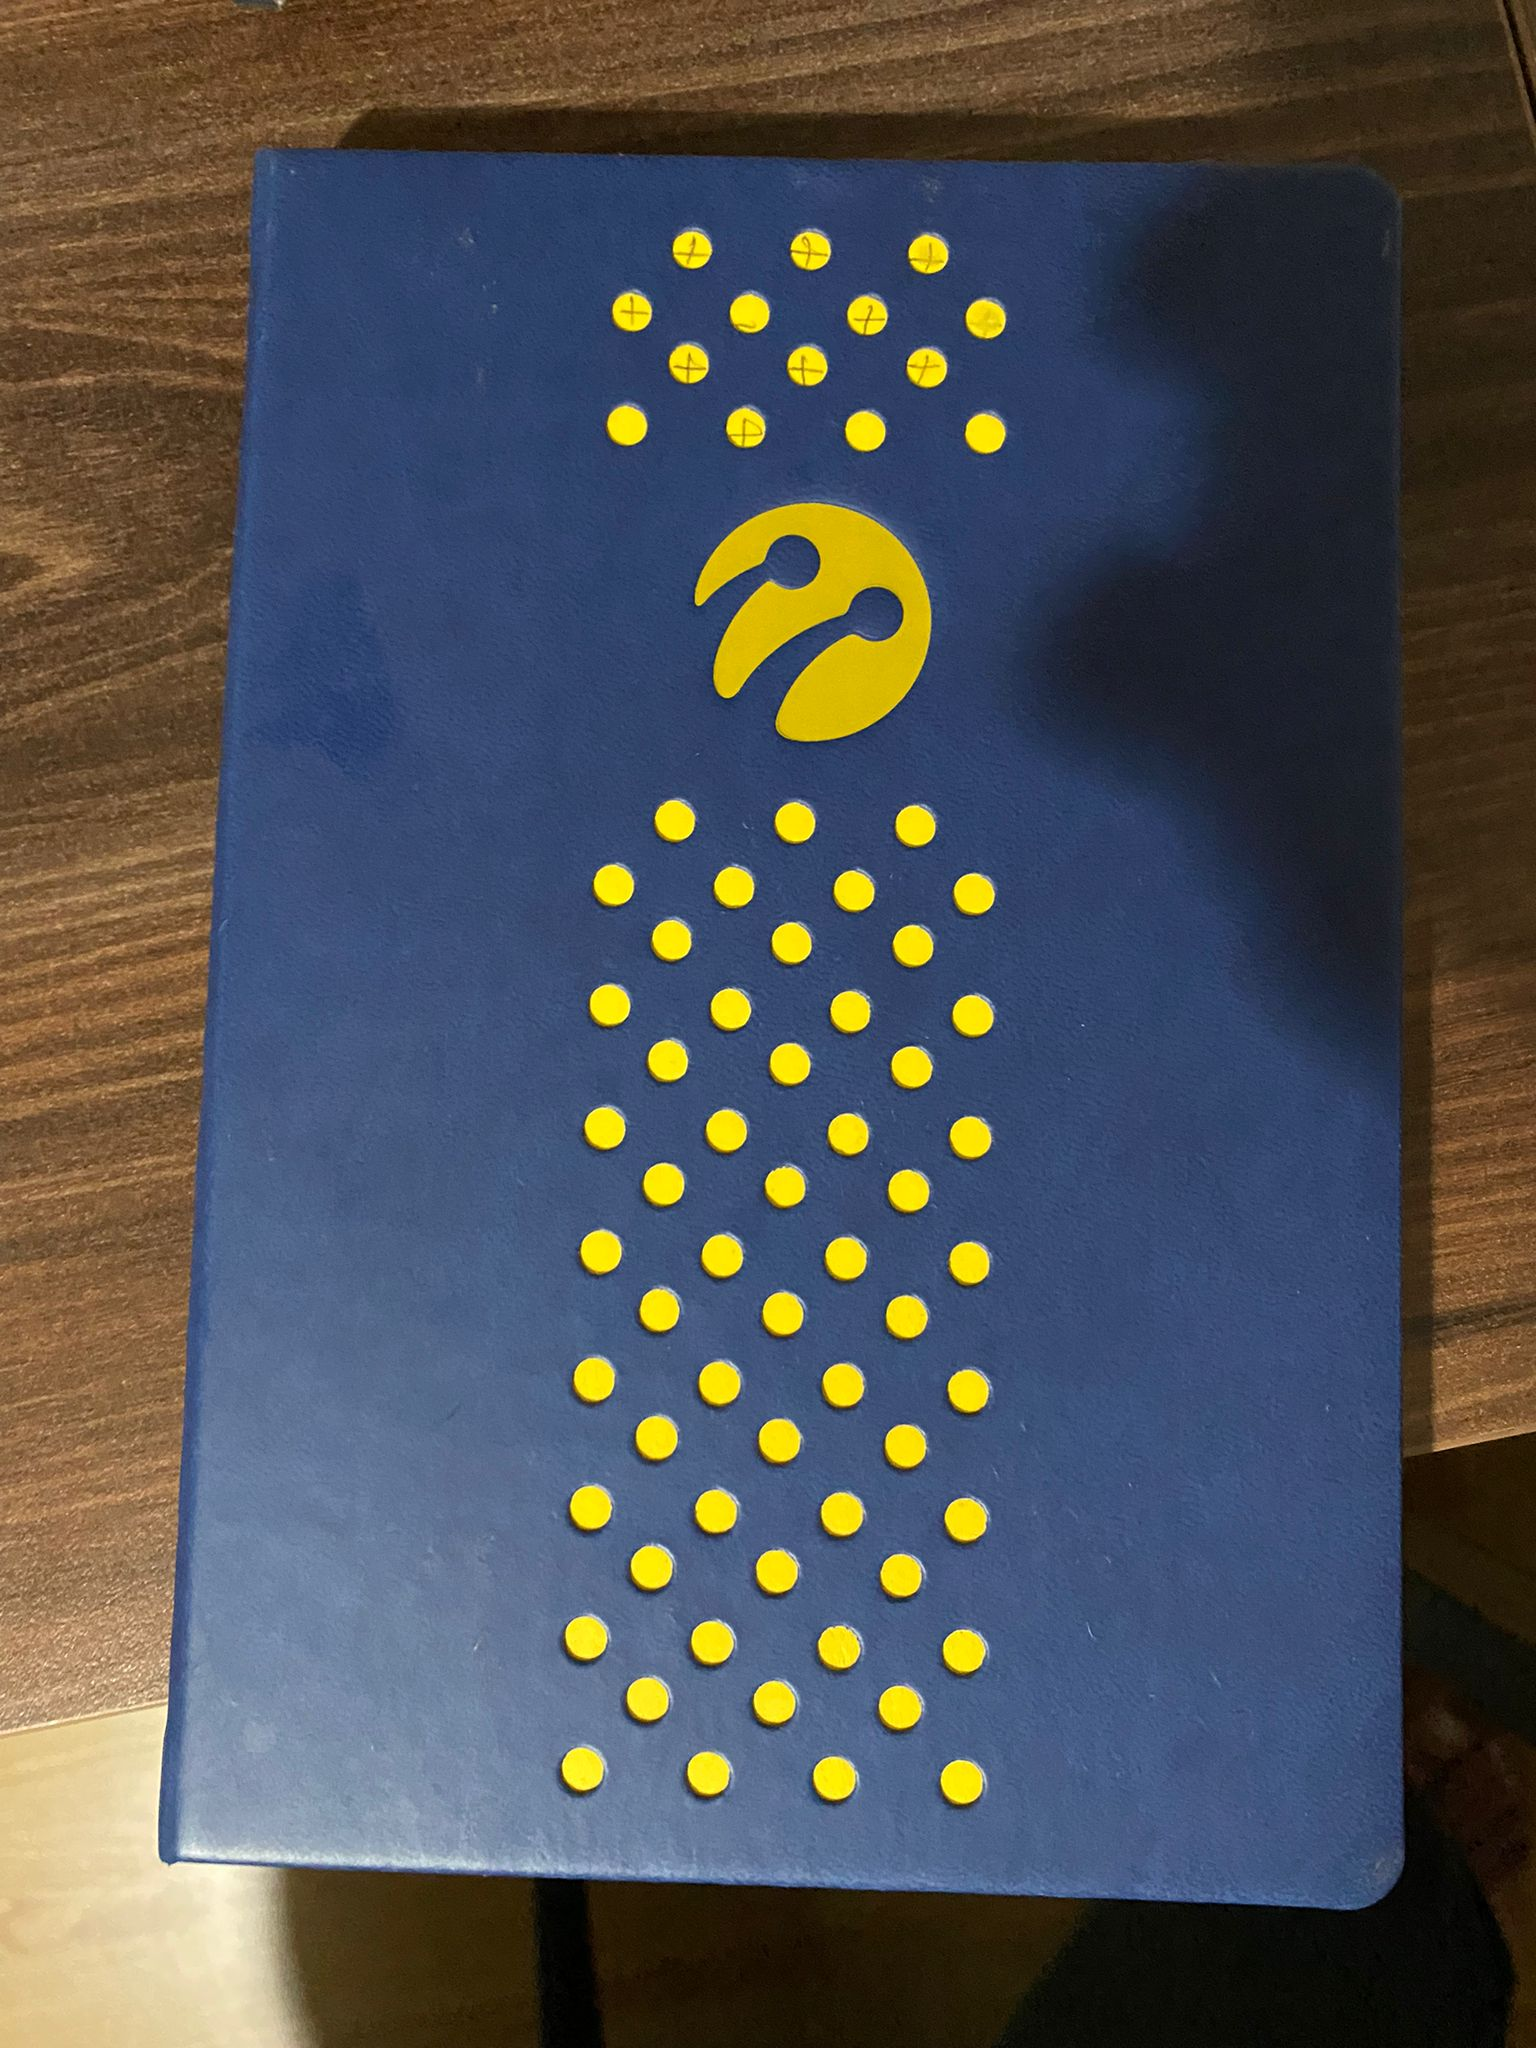turkcell: (686, 490, 950, 751)
